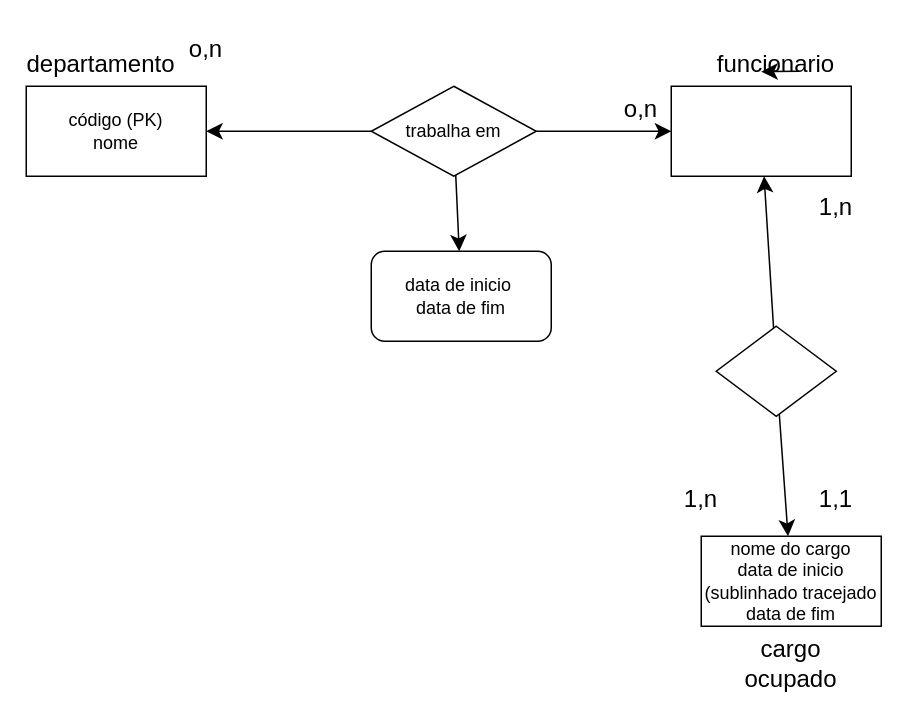
Image size: 908x717. Some labels were removed from this diagram. The shapes that lost their labels are listed below. From the top down, each one's centre as x and y in pixels, then its label:
(760,130): numero(PK) nome sobrenome data de contrataçao
(775,370): ocupa
